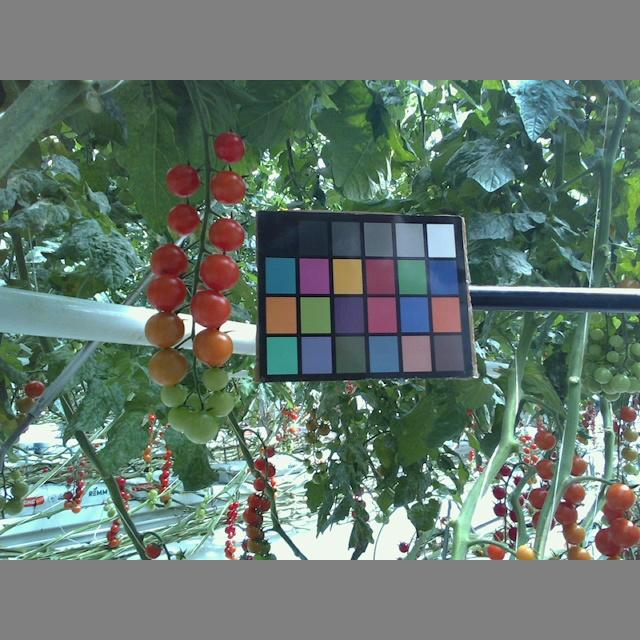green: (184, 409, 218, 445), (159, 381, 190, 409), (201, 364, 228, 392), (205, 391, 235, 416)
pink: (147, 347, 189, 388), (190, 289, 233, 328), (147, 273, 188, 312), (191, 329, 234, 366), (198, 255, 239, 293), (207, 216, 245, 252), (144, 312, 183, 347), (149, 245, 189, 279), (163, 163, 201, 196), (213, 168, 246, 203), (213, 131, 249, 162), (166, 203, 199, 234), (608, 517, 640, 548), (604, 481, 635, 512), (552, 502, 578, 526), (562, 479, 585, 505), (563, 522, 587, 545), (533, 430, 558, 450)
